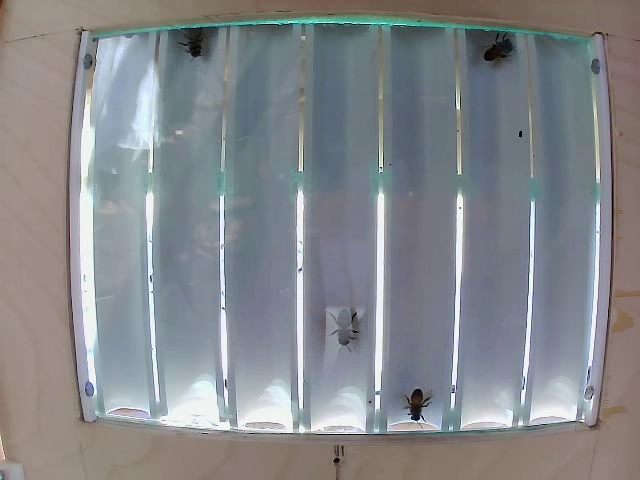bee: (325, 299, 364, 342), (391, 375, 429, 412), (478, 39, 516, 67)
